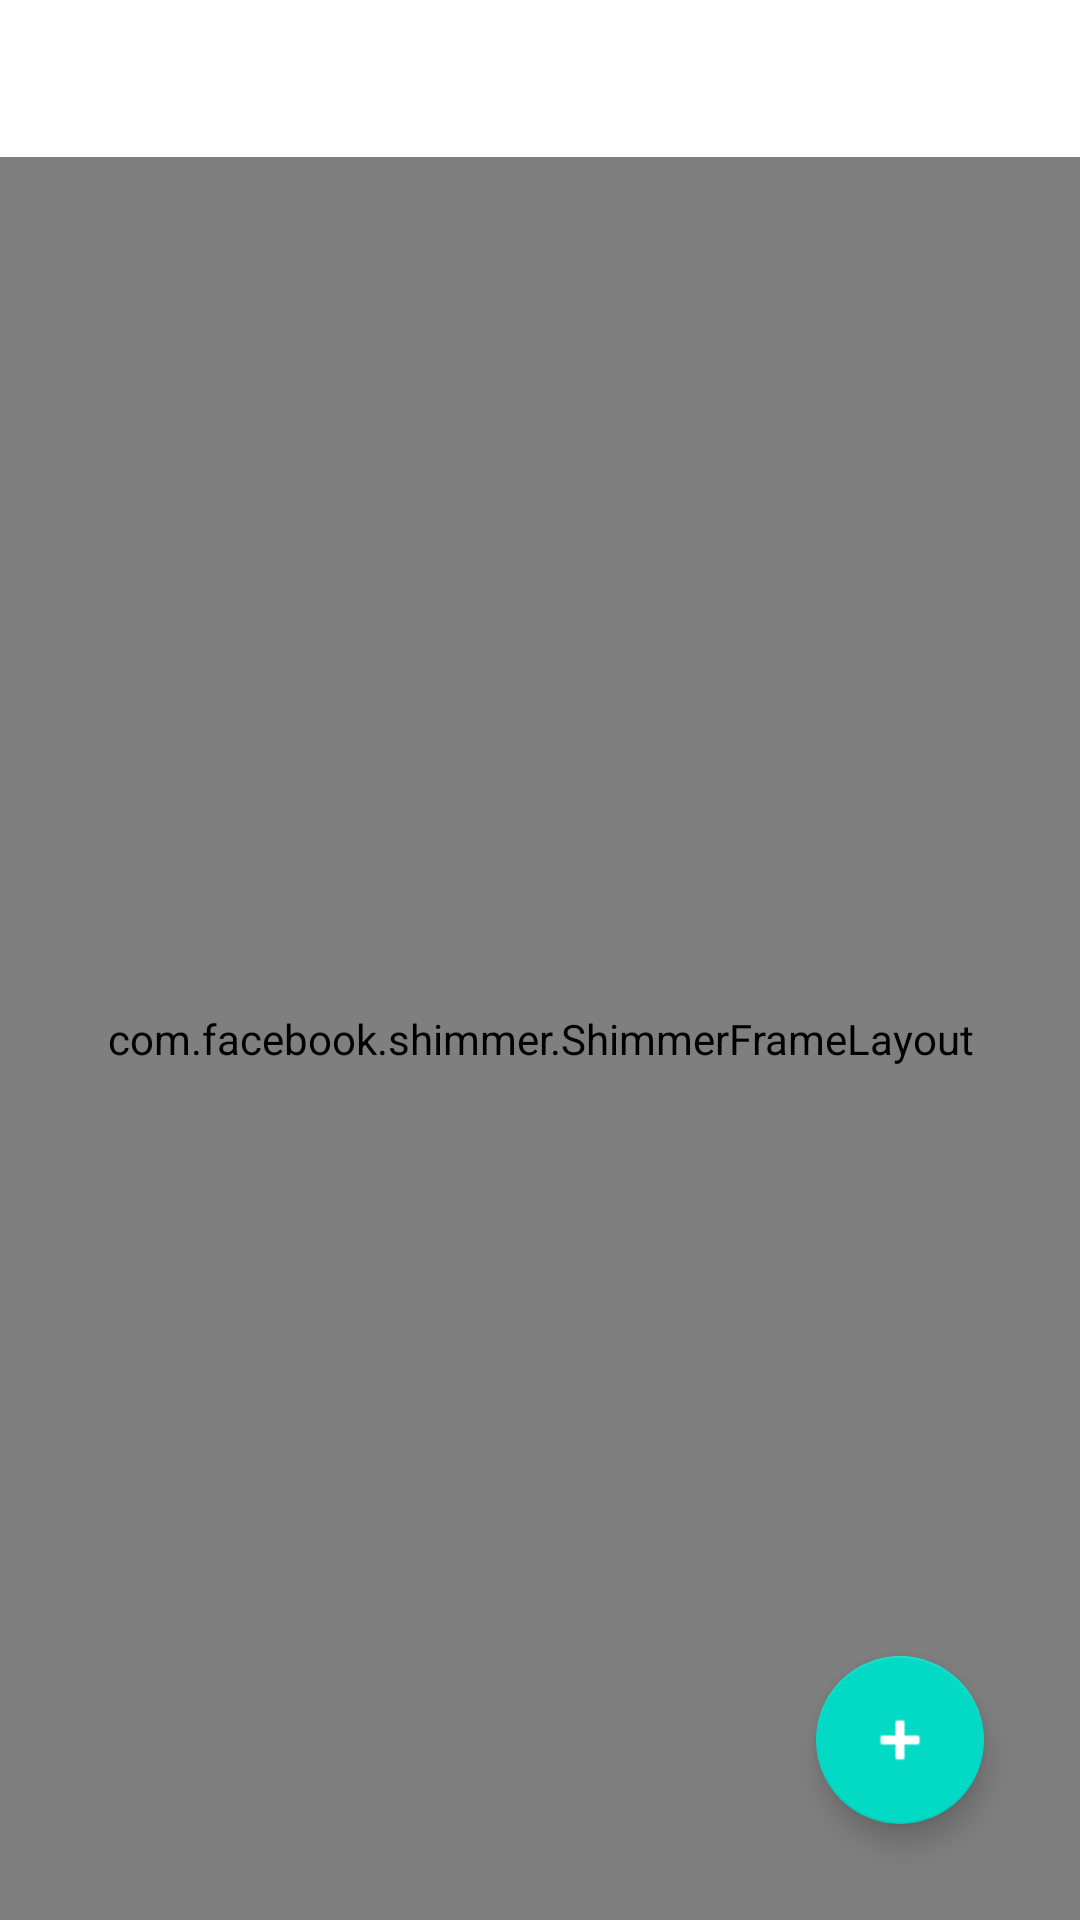

Locate icon controls on the screen. Image size 1080*1920, boxes as {"x1": x1, "y1": y1, "x2": x2, "y2": y2}.
Создать: {"x1": 816, "y1": 1656, "x2": 984, "y2": 1824}
